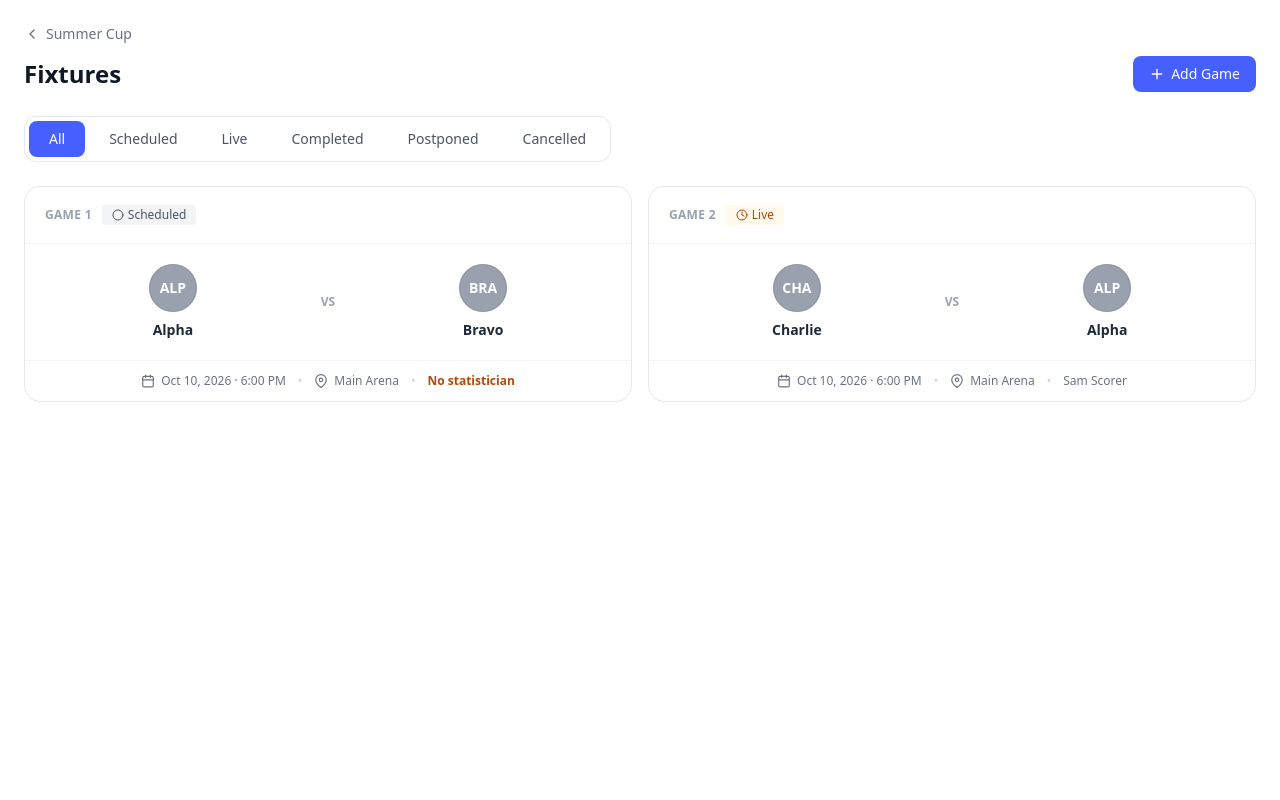
Test: Fixtures: create › keeps the form open with the server’s reason when it is refused
The image size is (1280, 800).
Click the button "Add Game" at (1195,74), box [1133,56,1256,92]
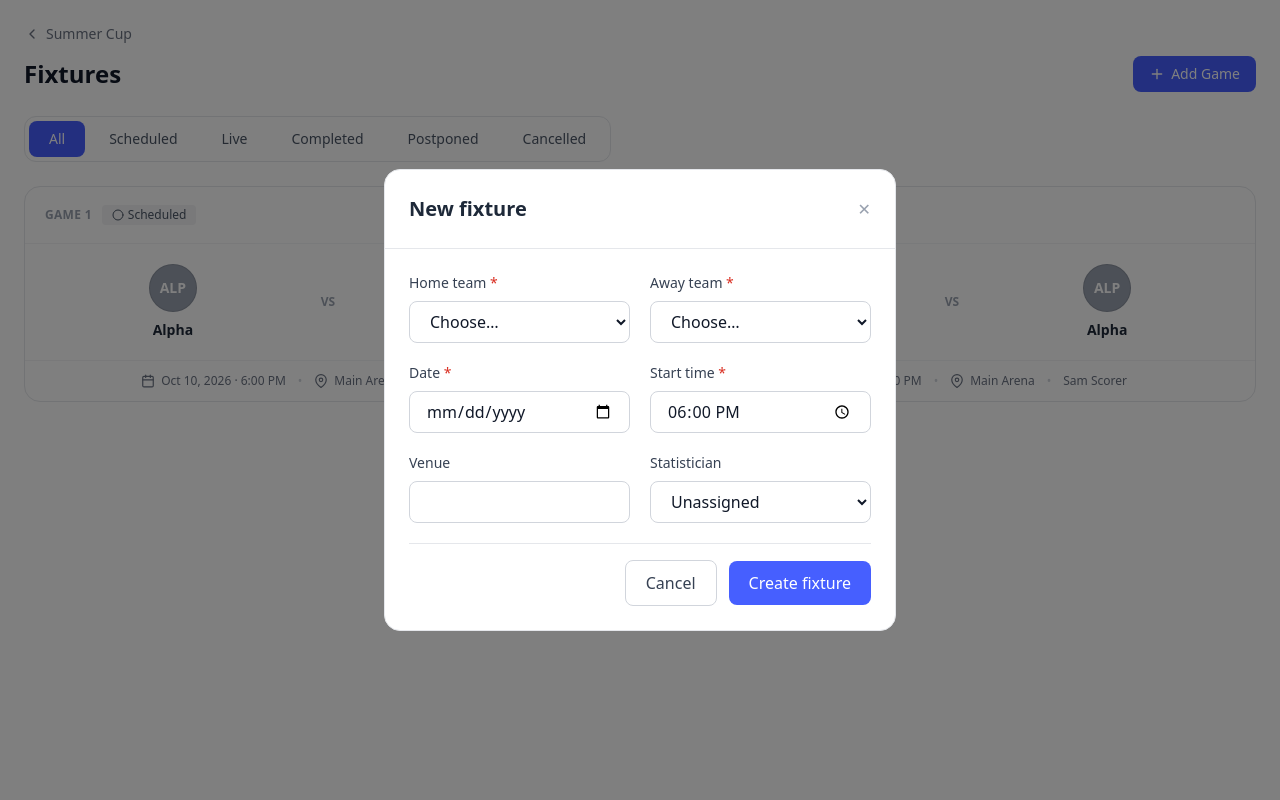
Select "Alpha" in the dropdown labelled "Home team *" at (520,322), box [409,301,630,343]
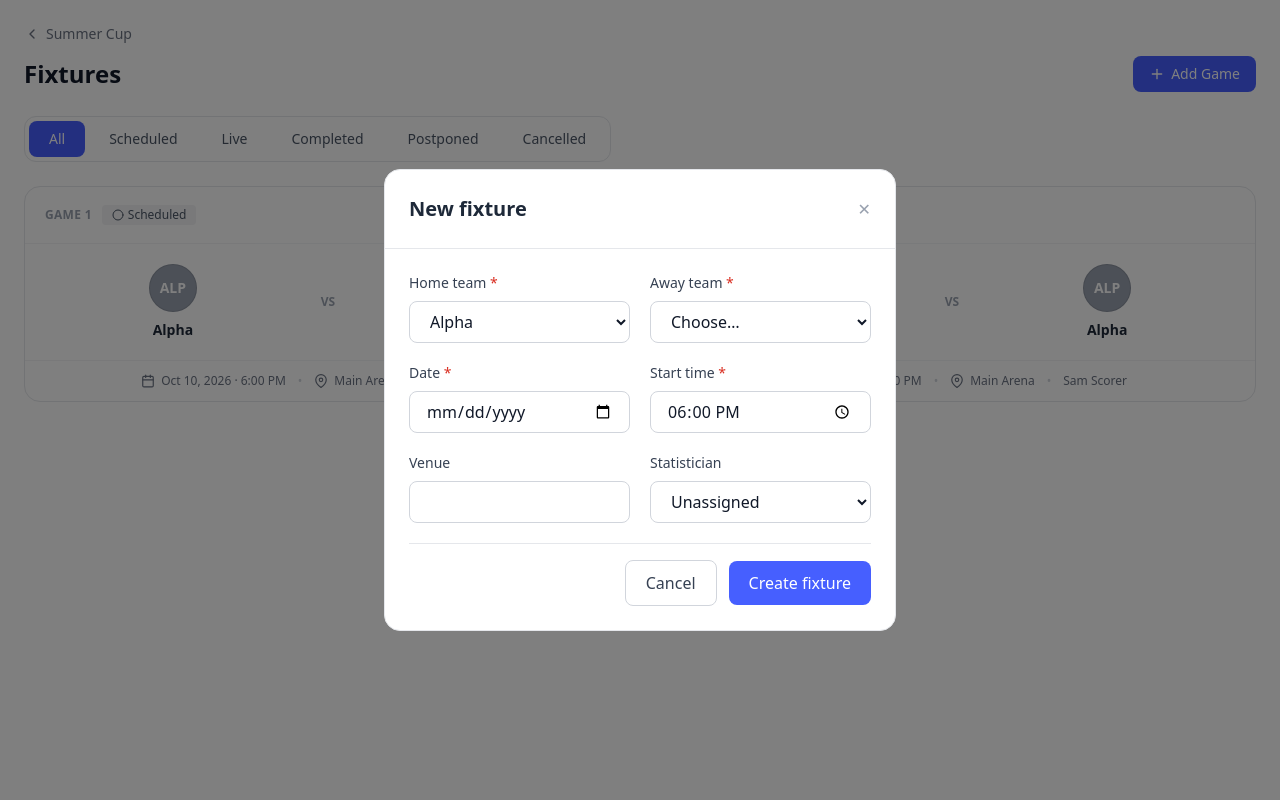
Select "Charlie" in the dropdown labelled "Away team *" at (760,322), box [650,301,871,343]
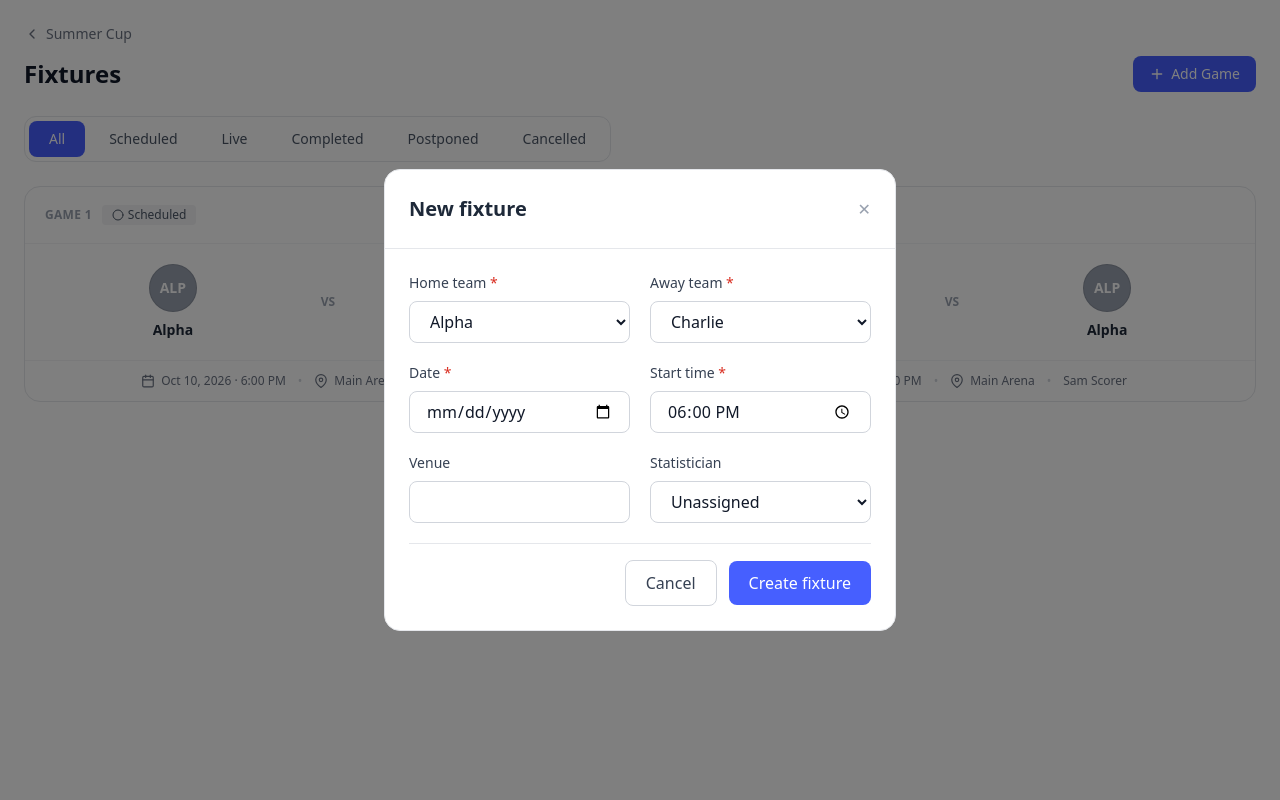
Type "2026-10-10" into the date field labelled "Date *" at (520,412), box [409,391,630,433]
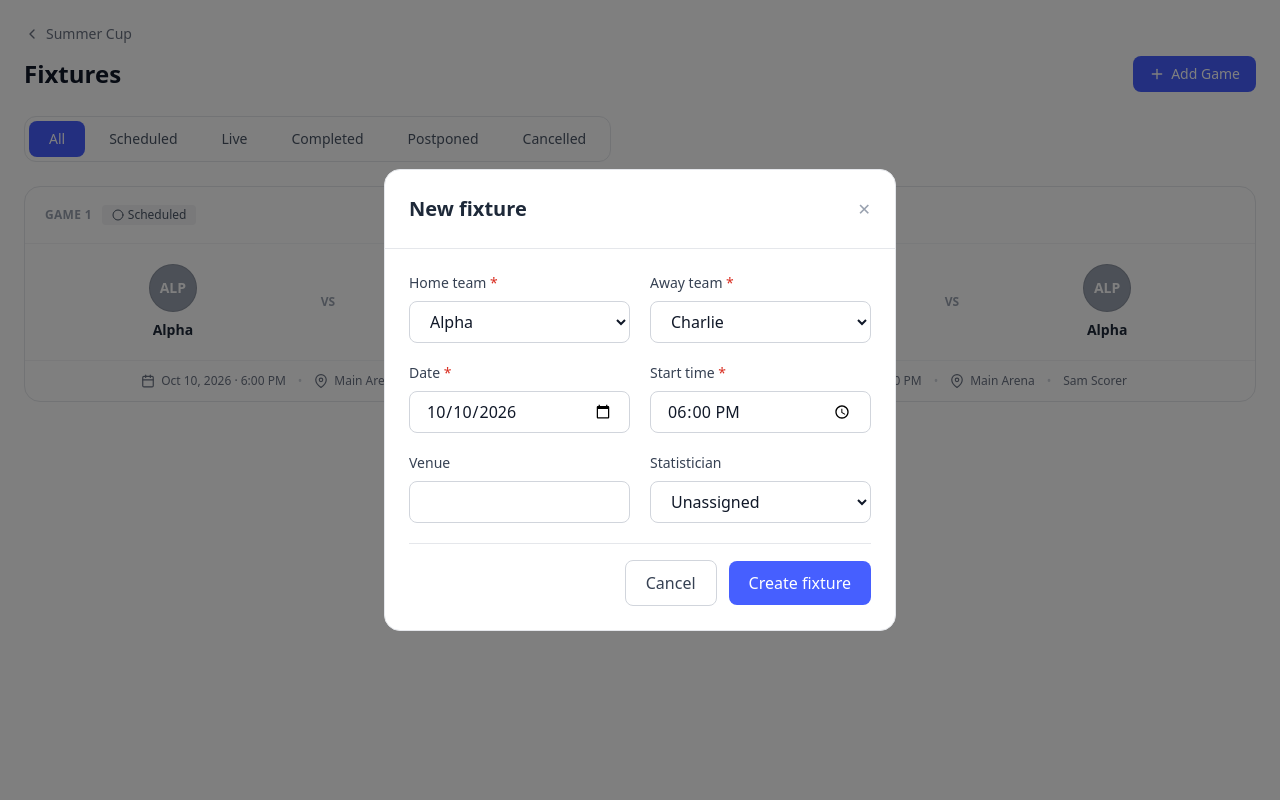
Click the button "Create fixture" at (800,583), box [729,561,871,605]
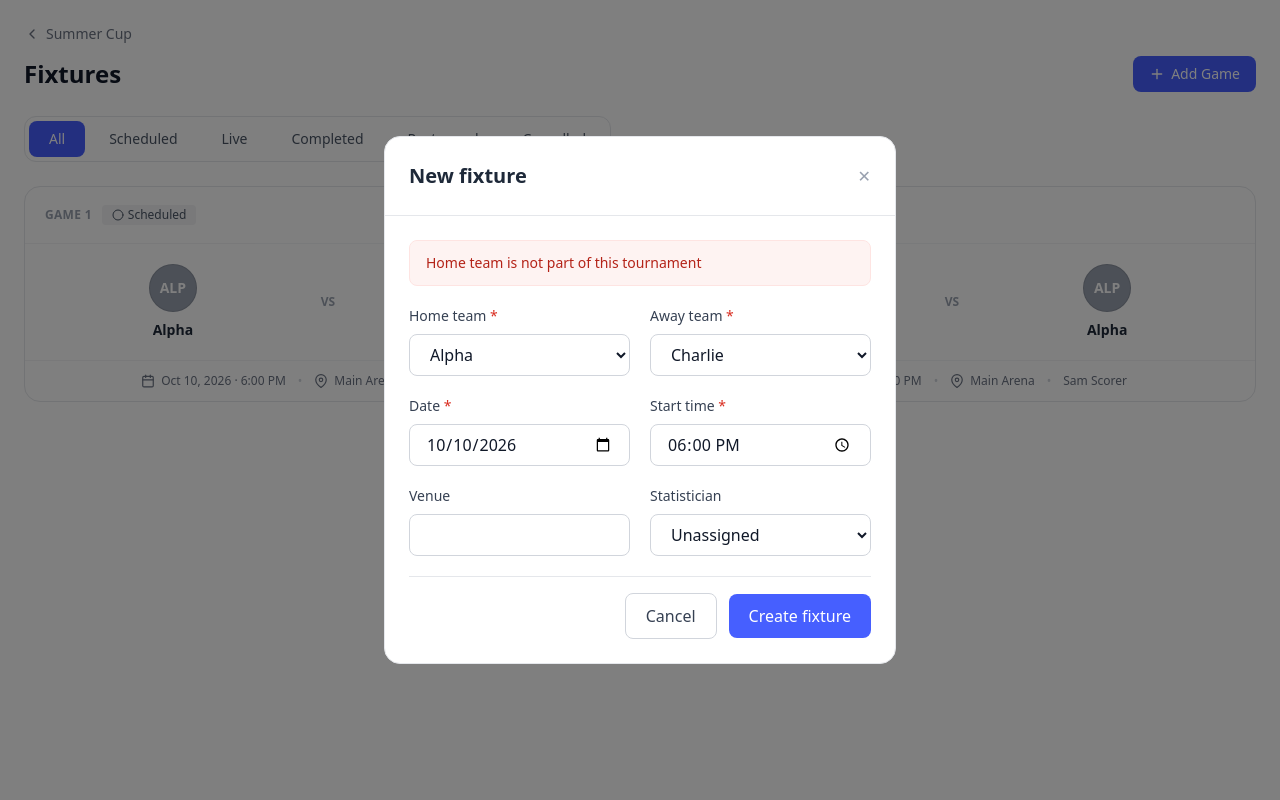
Expected: the dialog "New fixture" is shown, [384,136,896,664]
Expected: the message shows "not part of this tournament", [426,253,702,272]
